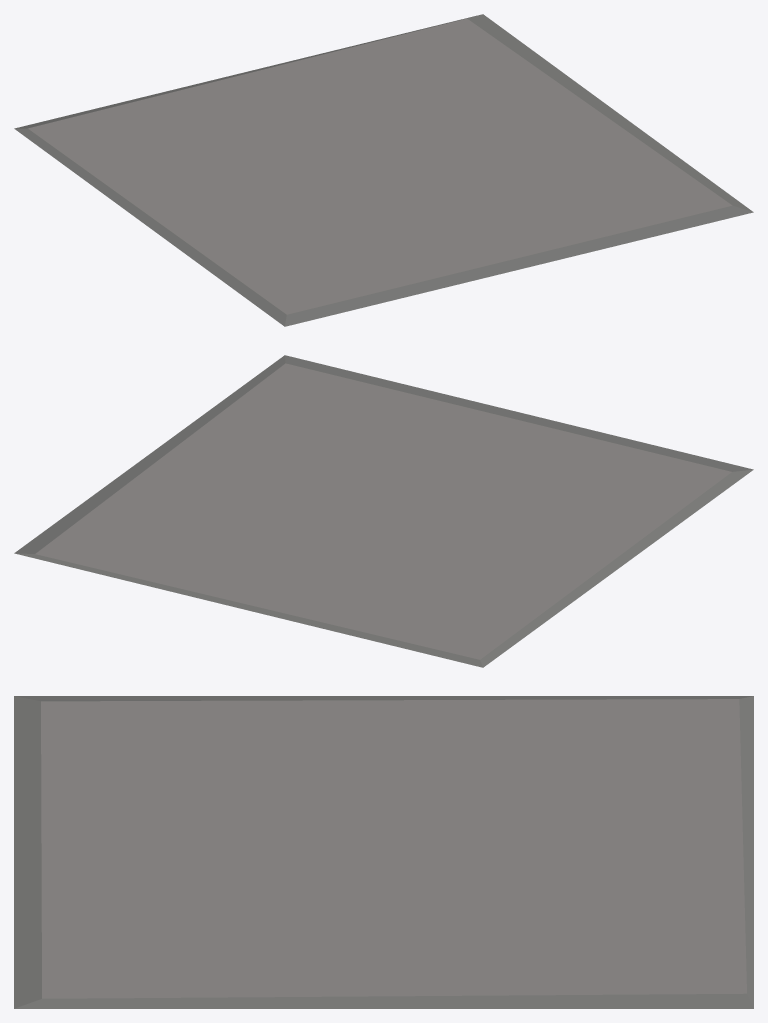
The model's file is SM_Bld_Floor_Concrete_01.glb.
The picture shows the model from 3 angles, top to bottom: view 1: azimuth 30°, elevation 25°; view 2: azimuth 150°, elevation 25°; view 3: azimuth 270°, elevation 25°; orthographic projection. The views are drawn at different scales.
Visible parts, largest first — view 1: SM_Bld_Floor_Concrete_01; view 2: SM_Bld_Floor_Concrete_01; view 3: SM_Bld_Floor_Concrete_01.
Part boxes in pixels (left/top/right/bottom): SM_Bld_Floor_Concrete_01: left=14, top=14, right=753, bottom=326; SM_Bld_Floor_Concrete_01: left=14, top=355, right=753, bottom=667; SM_Bld_Floor_Concrete_01: left=14, top=696, right=753, bottom=1008.
Size of the model in its own units: 2.5 by 0.01 by 2.5.
Materials: 1 (1 with a texture image).
